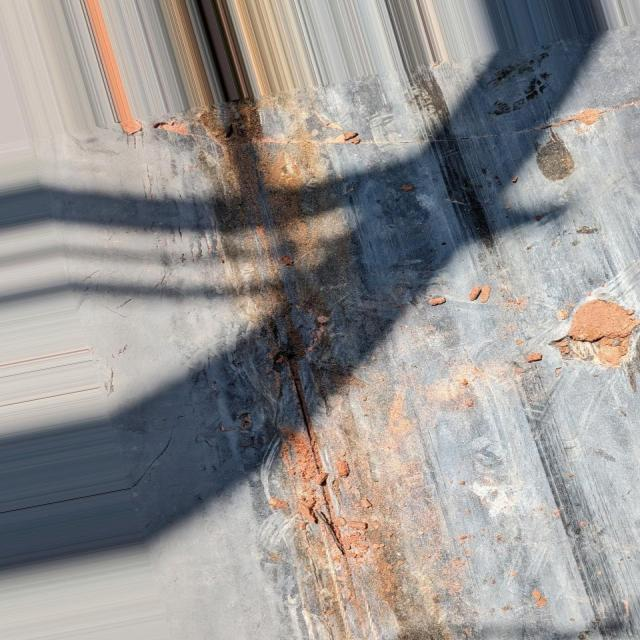Wear: (178, 110, 432, 640)
